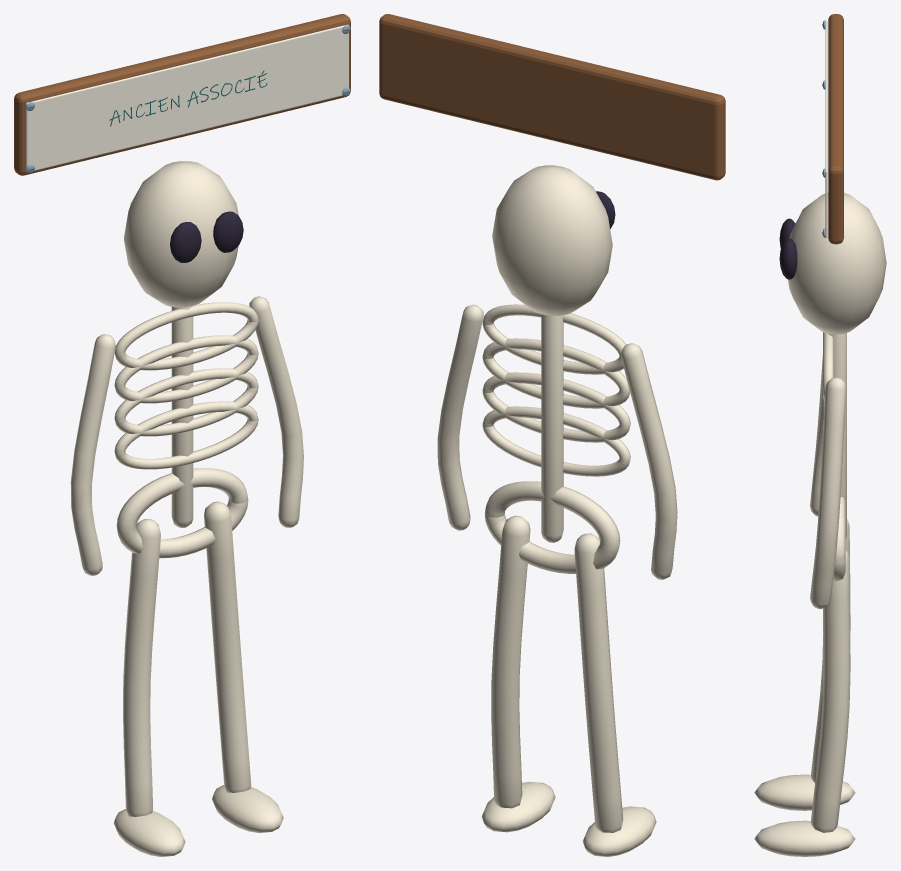
The model's file is skeleton.glb.
The picture shows the model from 3 angles, left to right: view 1: azimuth 30°, elevation 25°; view 2: azimuth 150°, elevation 25°; view 3: azimuth 270°, elevation 25°; orthographic projection. The views are drawn at different scales.
Visible parts, largest first — view 1: Sign_cream_face, Skull, Leg, Leg.001, Sign_timber, Arm, Arm.001, Pelvis, Rib, Rib.003, Spine, Rib.001 (+6 smaller); view 2: Sign_timber, Skull, Leg, Leg.001, Arm, Arm.001, Pelvis, Spine, Rib, Rib.001, Rib.002, Rib.003 (+2 smaller); view 3: Skull, Leg.001, Arm.001, Sign_timber, Foot.001, Foot, Spine, Arm, Leg, Pelvis, Sign_cream_face, Socket.001 (+1 smaller).
Part boxes in pixels (x1,y1,x2,y2): Sign_cream_face: (26,24,348,172); Skull: (124,161,238,307); Leg: (123,519,160,816); Leg.001: (204,501,251,792); Sign_timber: (14,14,350,175); Arm: (70,334,115,575); Arm.001: (249,296,303,527); Pelvis: (116,468,248,558); Rib: (114,401,258,469); Rib.003: (114,302,258,370); Spine: (171,306,193,527); Rib.001: (114,368,258,436); Sign_timber: (379,14,725,180); Skull: (492,165,612,315); Leg: (574,533,623,832); Leg.001: (491,515,530,808); Arm: (621,343,677,579); Arm.001: (437,304,483,530); Pelvis: (484,481,620,573); Spine: (541,314,563,542); Rib: (482,406,630,476); Rib.001: (482,372,630,442); Rib.002: (482,338,629,408); Rib.003: (482,304,626,374); Skull: (788,193,886,334); Leg.001: (811,550,850,832); Arm.001: (810,377,846,609); Sign_timber: (828,14,843,244); Foot.001: (754,820,855,856); Foot: (754,774,855,810); Spine: (828,333,846,538); Arm: (810,355,822,516); Leg: (811,519,850,782); Pelvis: (833,497,845,581); Sign_cream_face: (825,20,827,237); Socket.001: (779,238,797,279).
Size of the model in its own units: 0.95 by 2.09 by 0.34.
